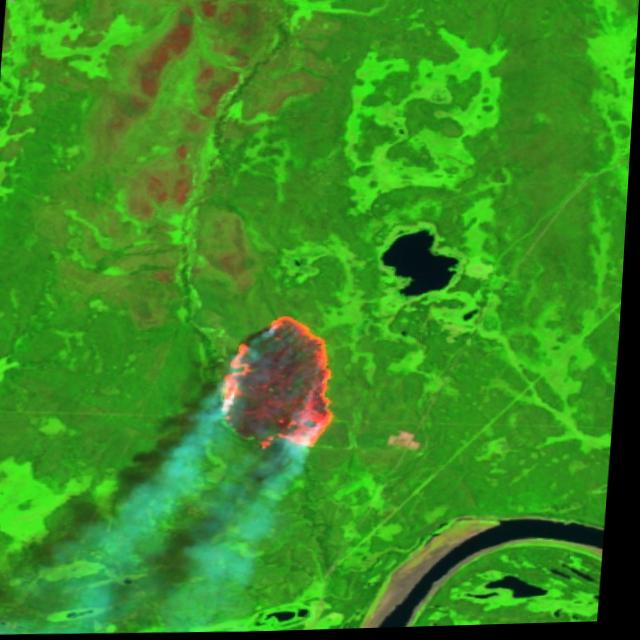fire: (217, 310, 344, 457)
